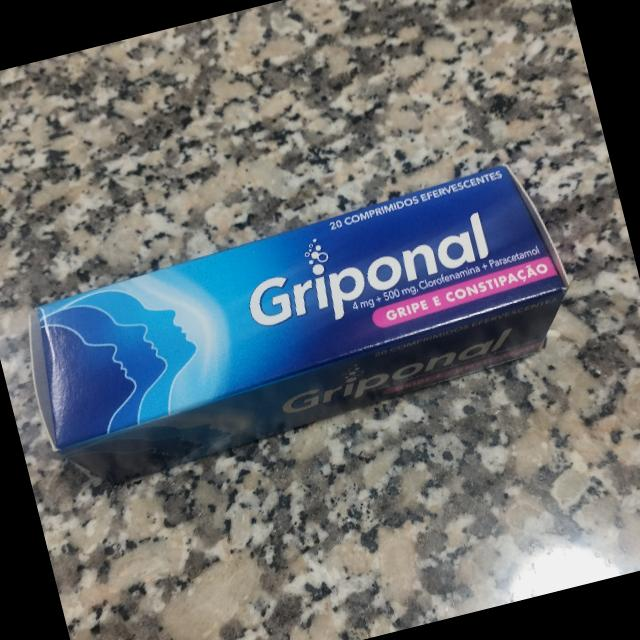caixa: (4, 151, 592, 502)
